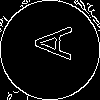A: (25, 25, 72, 60)
